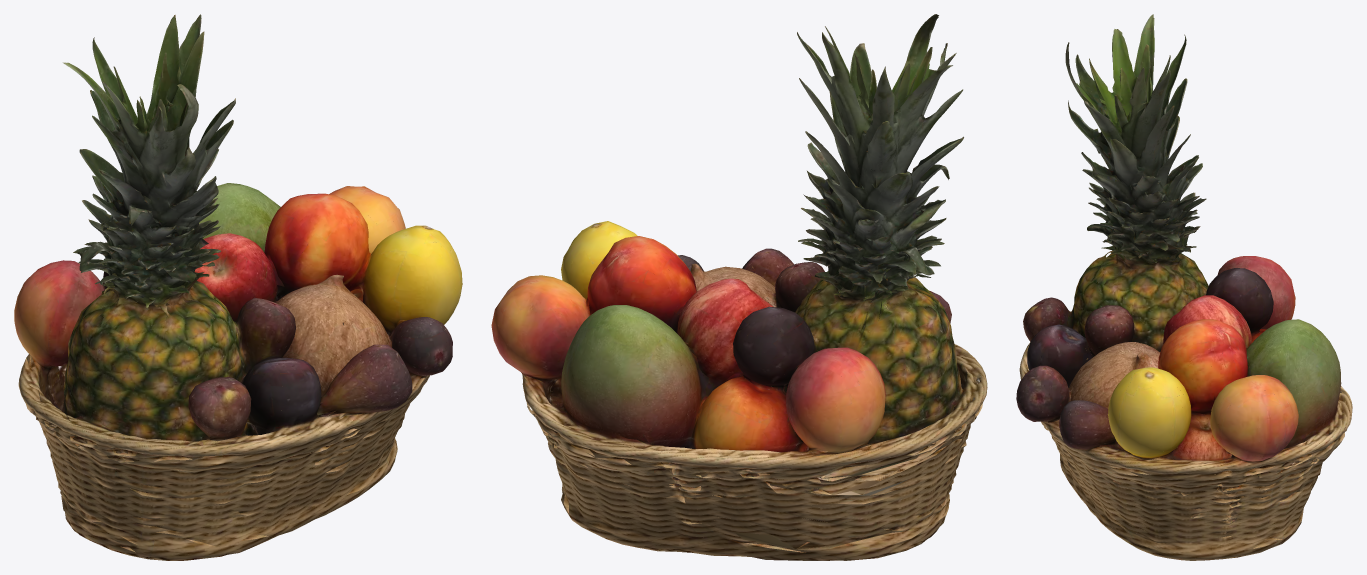
The model's file is 静物_水果_Fruit Basket_opt.glb.
The picture shows the model from 3 angles, left to right: view 1: azimuth 30°, elevation 25°; view 2: azimuth 150°, elevation 25°; view 3: azimuth 270°, elevation 25°; orthographic projection. The views are drawn at different scales.
Visible parts, largest first — view 1: fruit_basket_ohne_logos_Material_u1_v1; view 2: fruit_basket_ohne_logos_Material_u1_v1; view 3: fruit_basket_ohne_logos_Material_u1_v1.
Part boxes in pixels (x1,y1,x2,y2): fruit_basket_ohne_logos_Material_u1_v1: [14, 14, 462, 560]; fruit_basket_ohne_logos_Material_u1_v1: [491, 14, 987, 560]; fruit_basket_ohne_logos_Material_u1_v1: [1016, 14, 1352, 560].
Size of the model in its own units: 0.4369 by 0.5 by 0.3667.
Materials: 1 (1 with a texture image).
